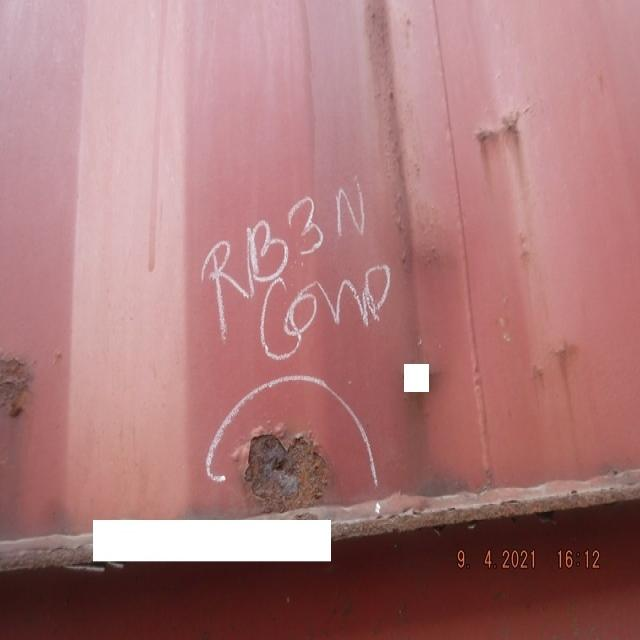rust: (231, 425, 335, 517), (2, 356, 33, 414)
